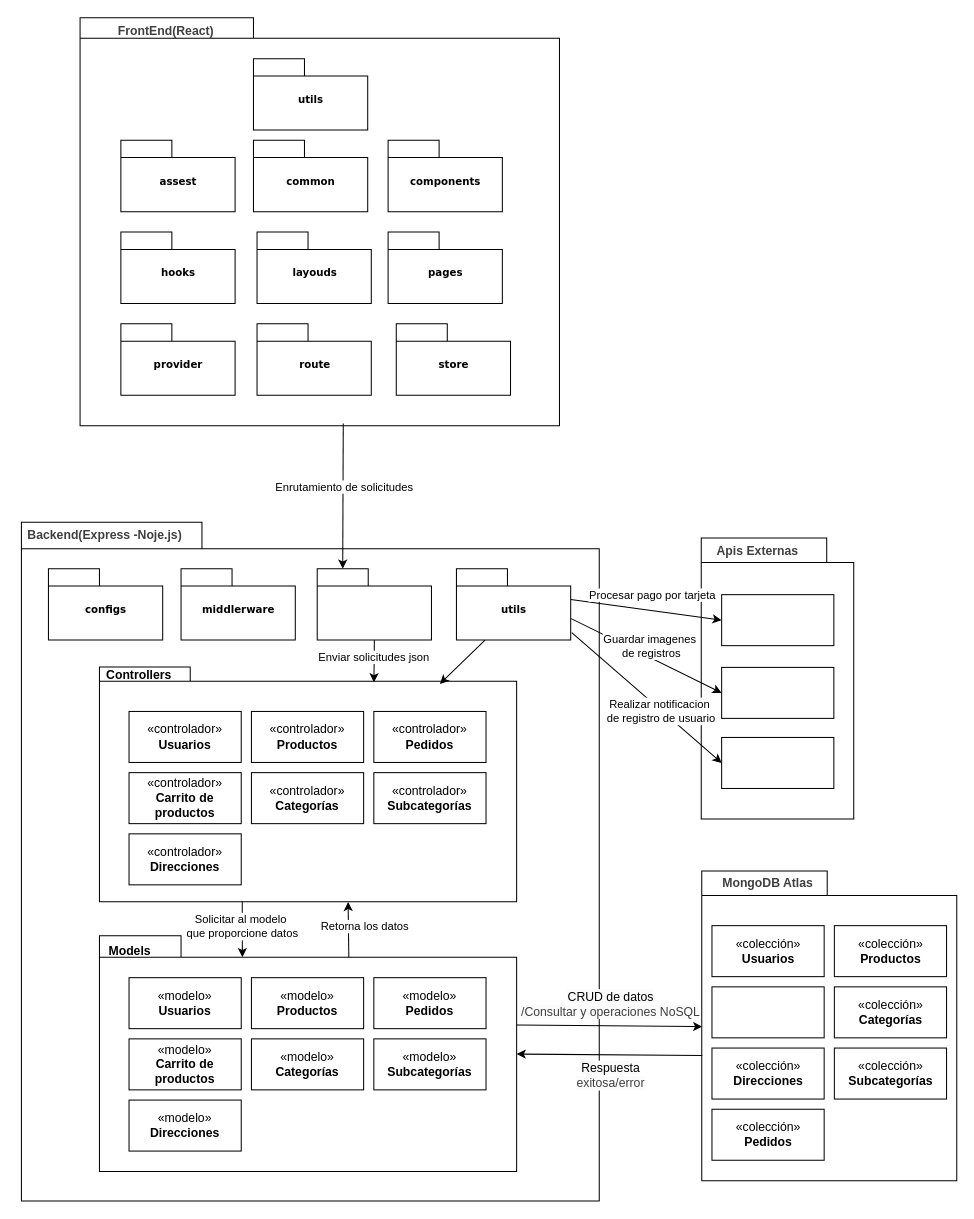
Image size: 974x1219. Some labels were removed from this diagram. Each missing label, with the box of its shape:
Routers: (316, 568, 431, 640)
« colección » Carrito de productos: (711, 986, 824, 1038)
«API» Cloudinary: (721, 666, 834, 718)
«API» Resend: (721, 736, 834, 788)
«API» Stripe: (721, 594, 834, 646)
